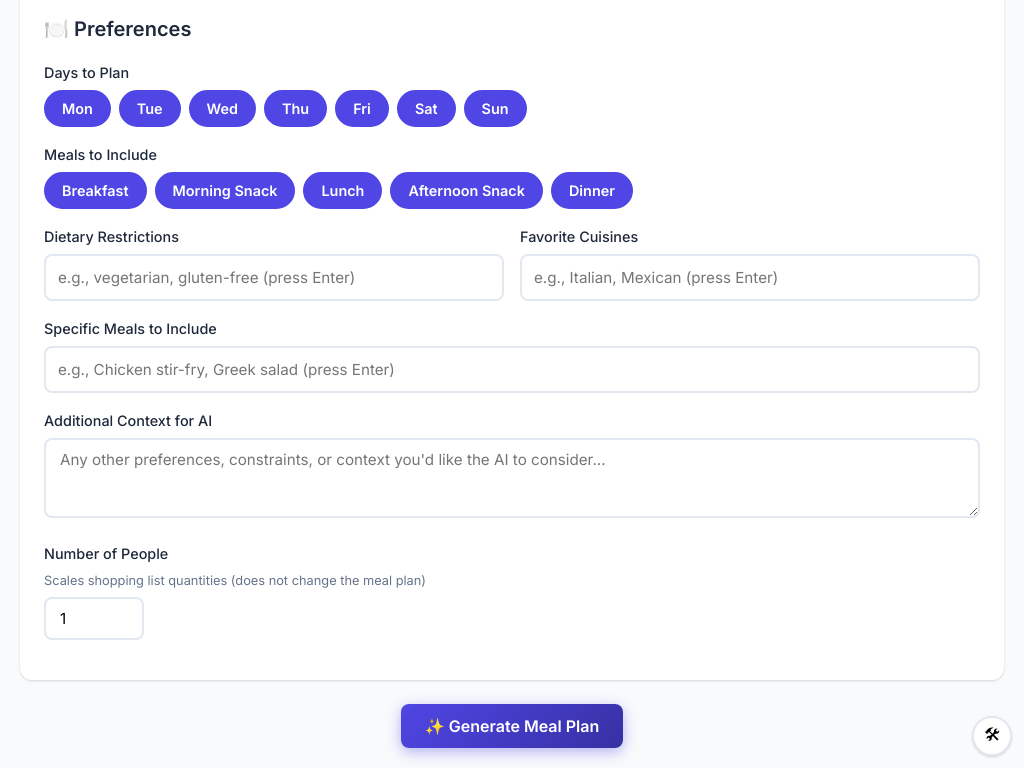
Test: App › shows error banner on API failure
The image size is (1024, 768).
(page scrolled)
Click the button "✨ Generate Meal Plan".
click(512, 726)  # box top-left (401, 704), bottom-right (623, 748)
(page scrolled)
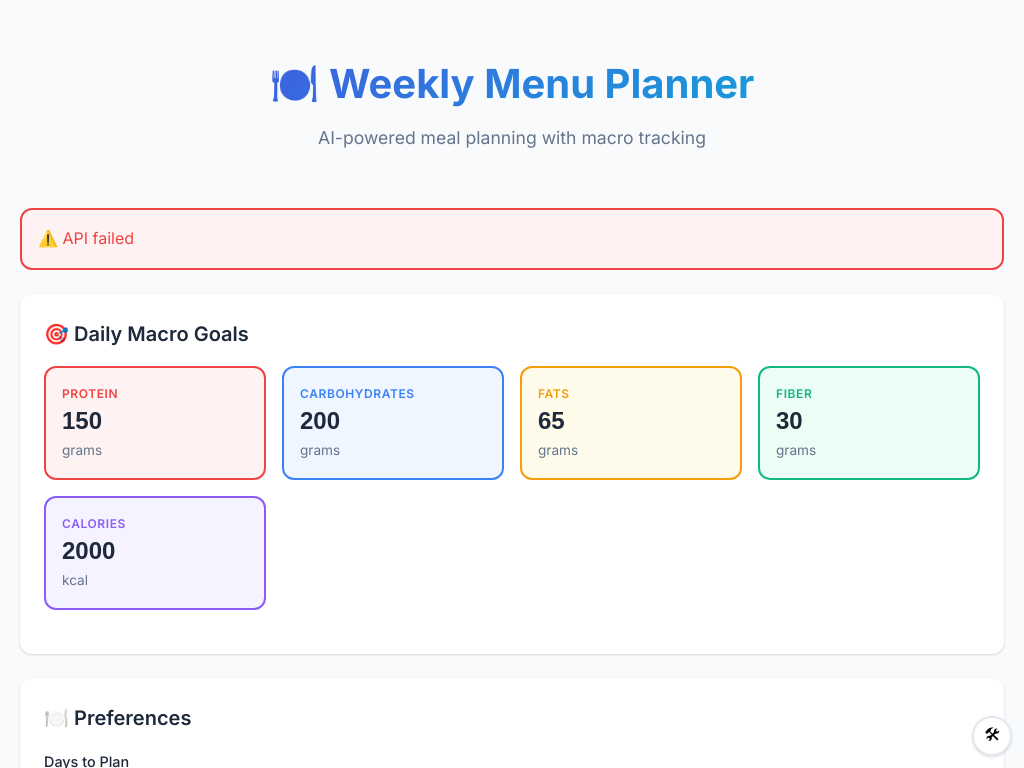
Now the message shows "API failed", box top-left (62, 228), bottom-right (134, 248)
